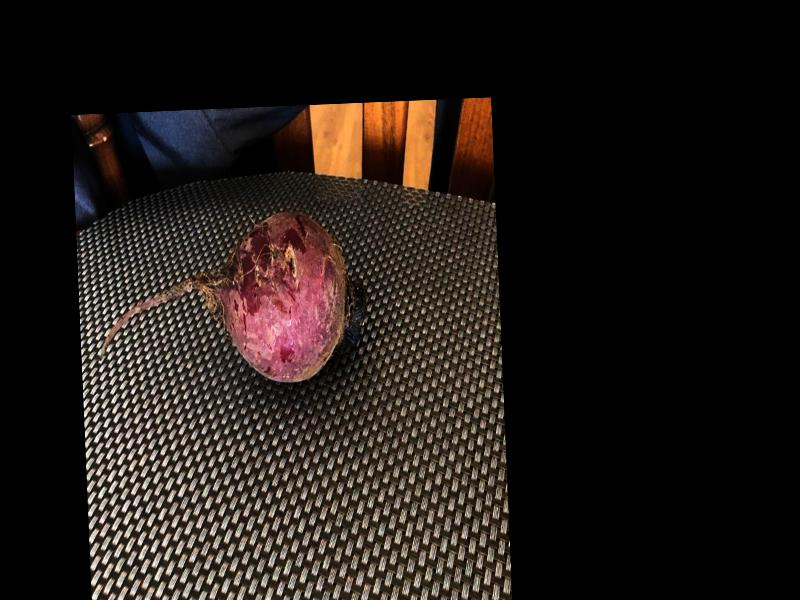Beet: (98, 206, 372, 389)
